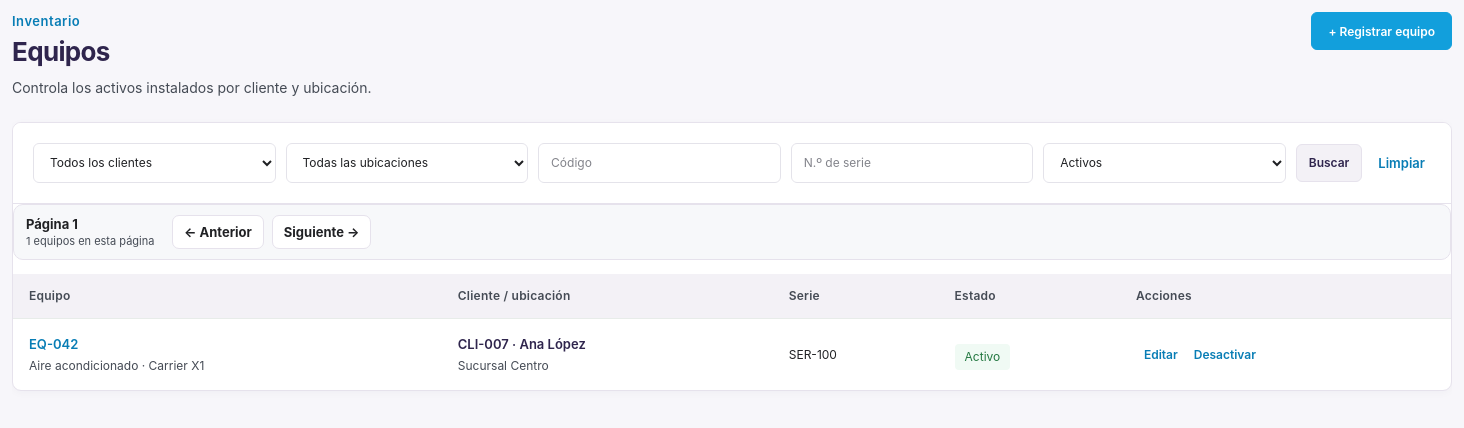
Test: Gestión de Equipos — TK-03 › desactiva un equipo y vuelve a consultar la lista
Expected: the cell "EQ-042 Aire acondicionado · Carrier X1" is shown, [13,319,442,390]
Click the button "Desactivar" at (1225, 355), box [1186,339,1264,371]
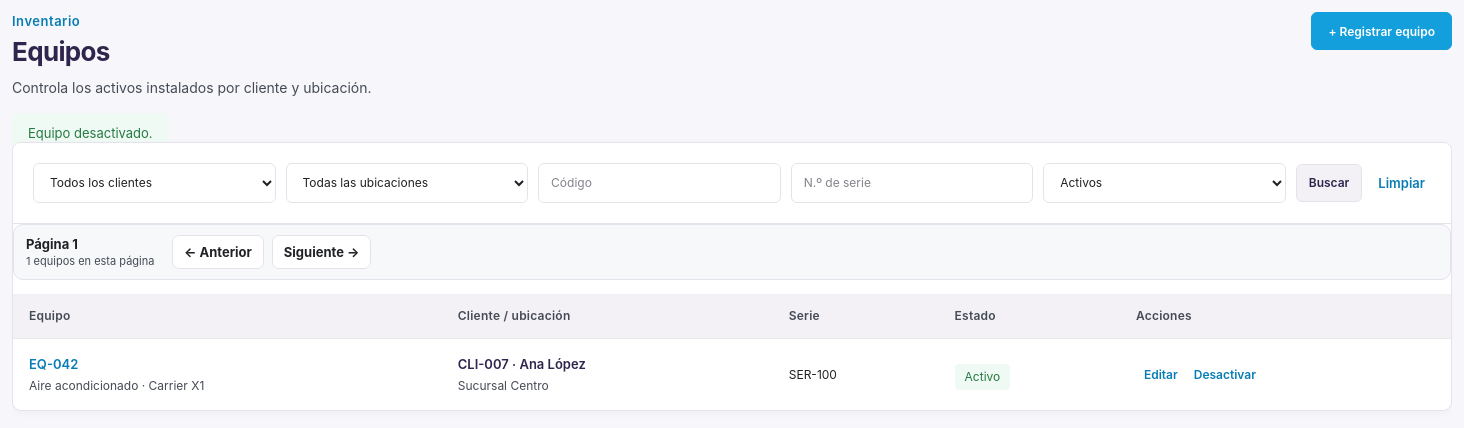
Expected: the text "Equipo desactivado." is shown, [12,113,169,153]
